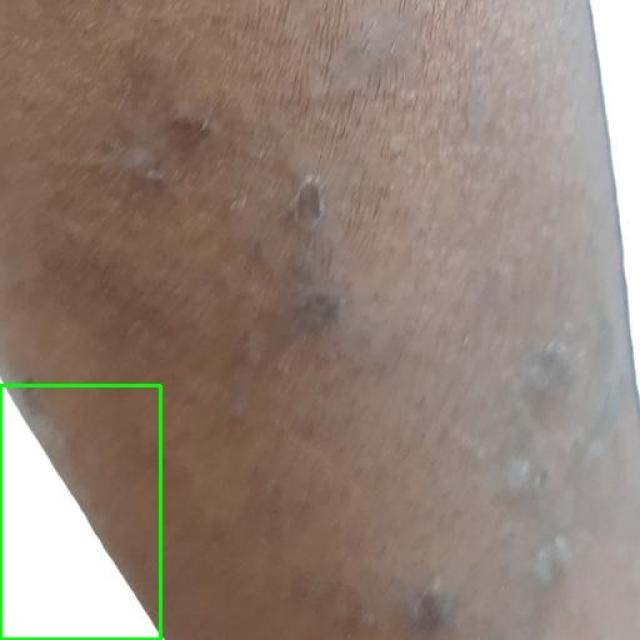Atopic Dermatitis: (0, 385, 160, 639)
